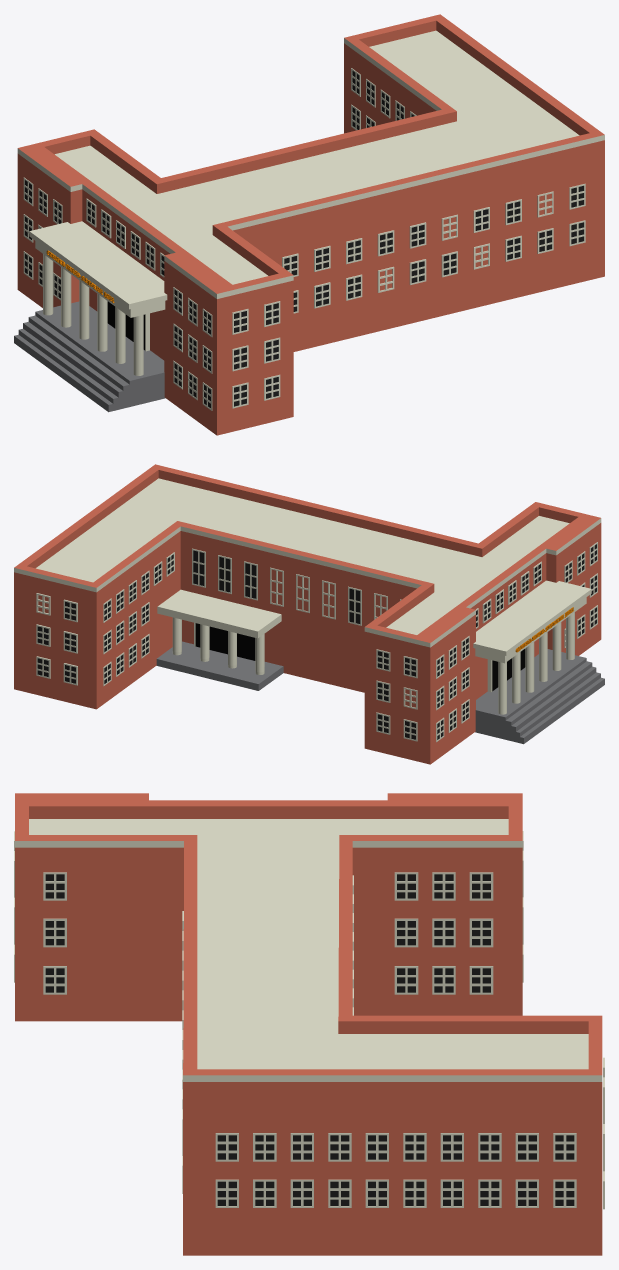
File: Adams Hall.fbx
3 views of the same model, one above another, from view 1: azimuth 30°, elevation 25°; view 2: azimuth 150°, elevation 25°; view 3: azimuth 270°, elevation 25° (orthographic). The views are drawn at different scales.
Parts seen in each view (by area): view 1: Column_Adams Hall; view 2: Column_Adams Hall; view 3: Column_Adams Hall.
Boxes of the visible parts, x1=… form: Column_Adams Hall: x1=14, y1=14, x2=604, y2=435; Column_Adams Hall: x1=14, y1=464, x2=604, y2=764; Column_Adams Hall: x1=14, y1=793, x2=604, y2=1255.
Size of the model in its own units: 487 by 130 by 384.
